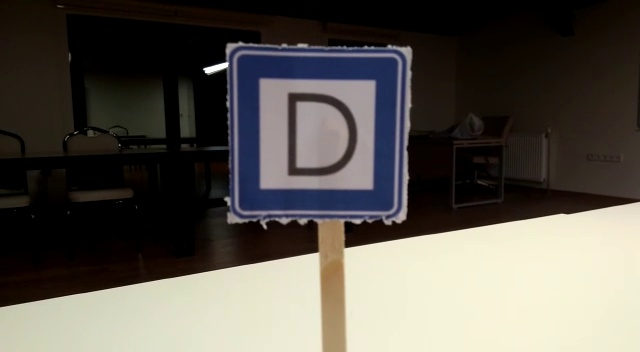durak: (229, 47, 410, 220)
